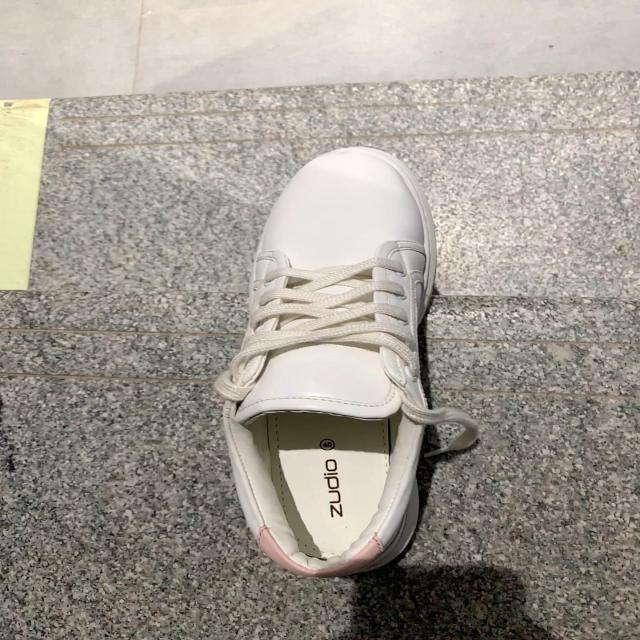shoe: (214, 147, 479, 581)
